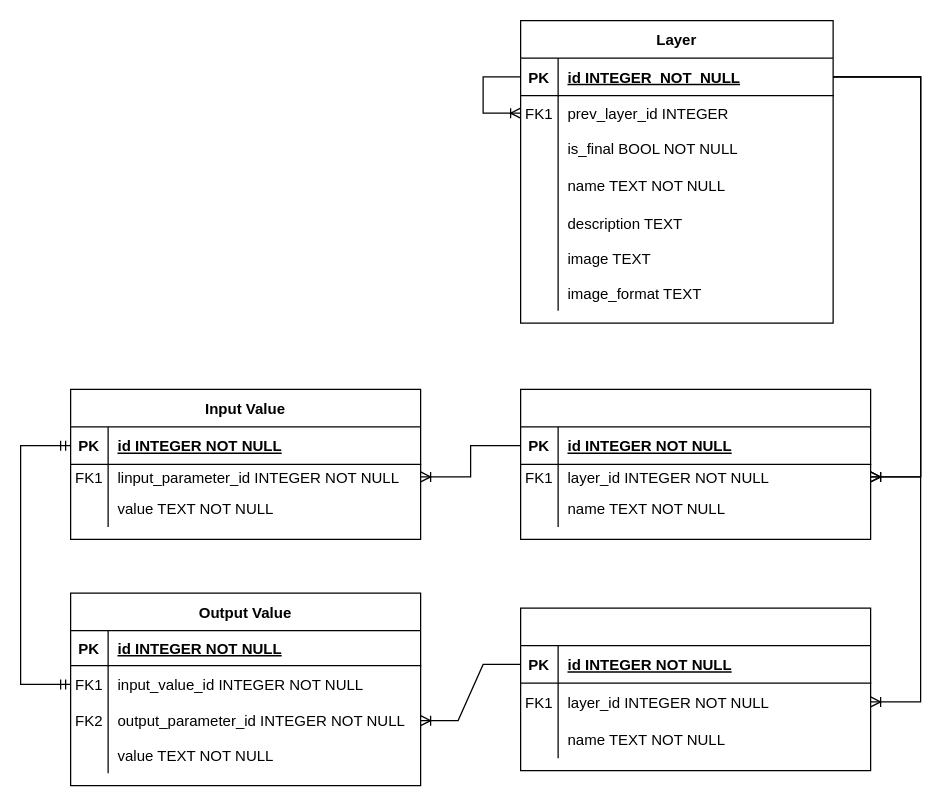
This 941x806 diagram has some shape labels left out. The shapes that lost their labels are listed below. From the top down, each one's box as (x1, y1, x2, y2) in pixels, then its label:
(519, 388, 871, 539): Input Parameter
(519, 607, 871, 771): Output Parameter
